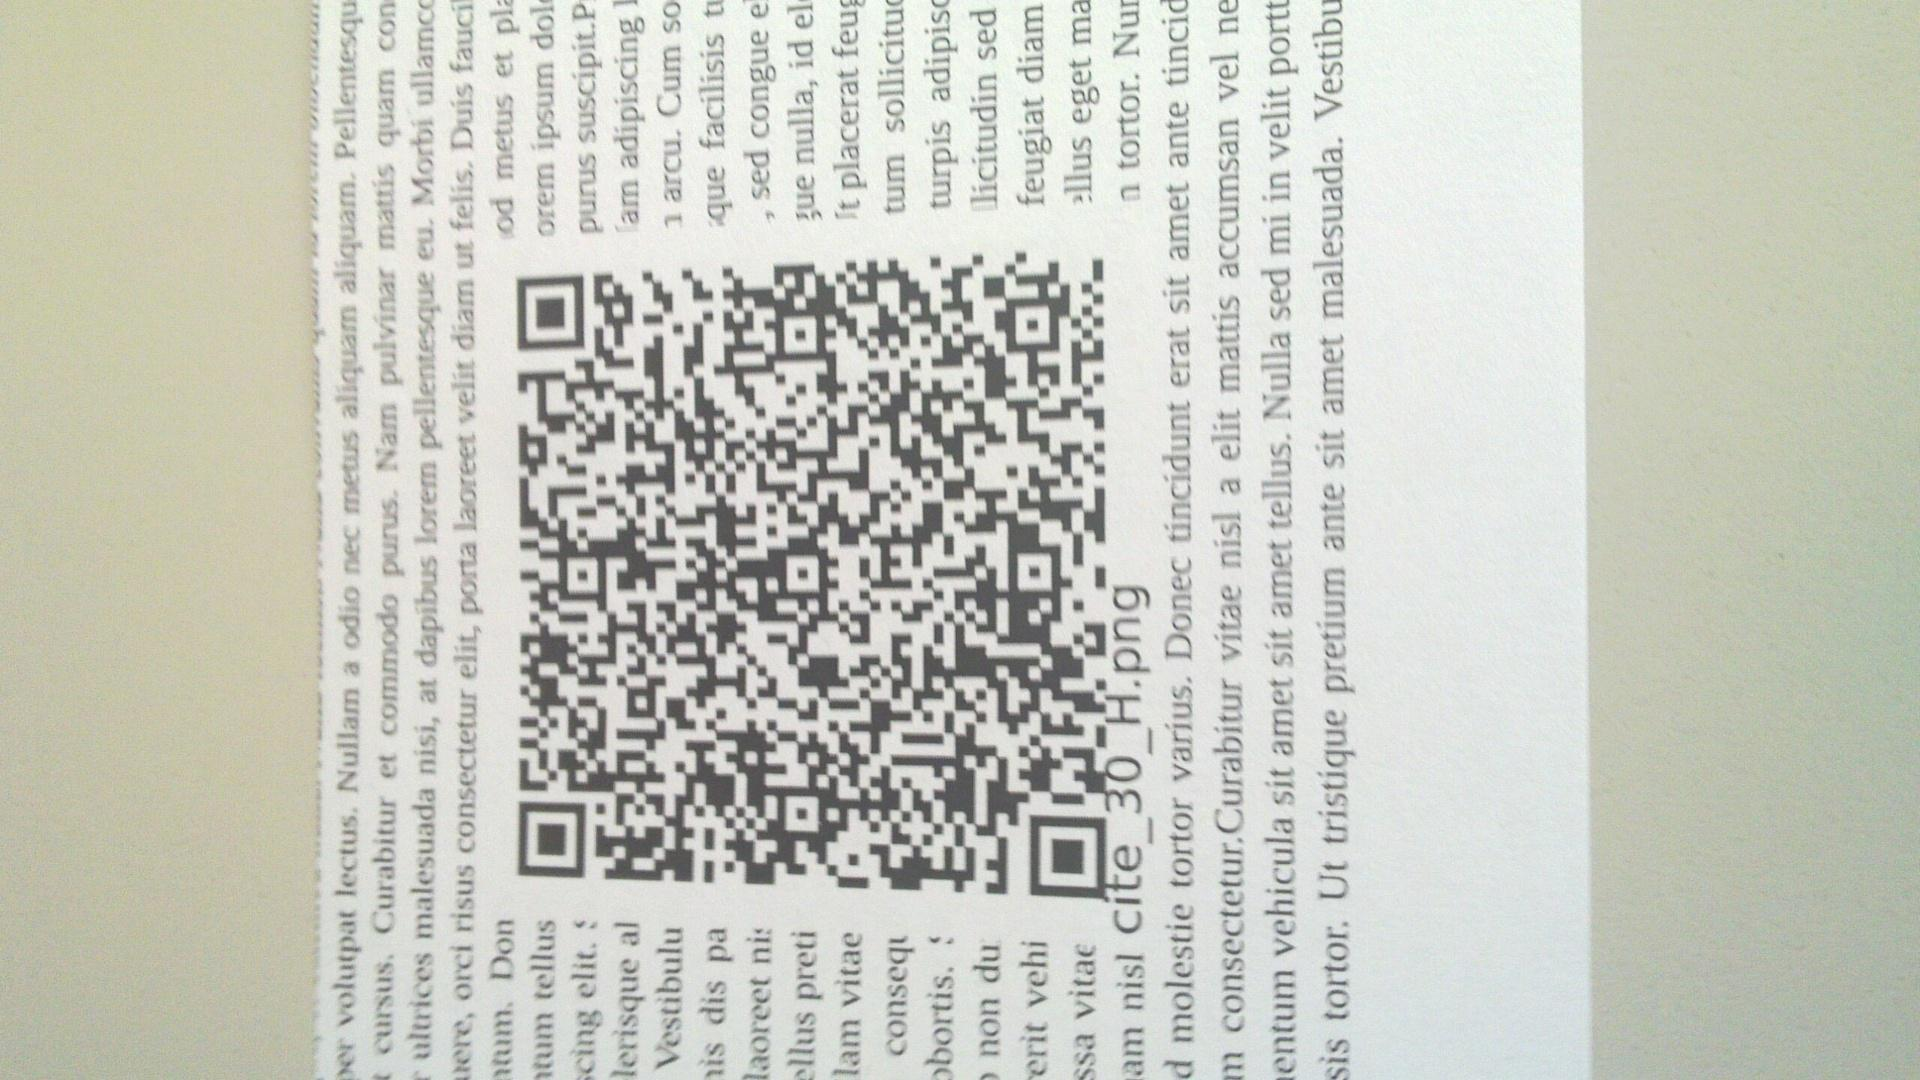Finder pattern: (1025, 806, 1113, 906), (516, 795, 592, 886), (510, 270, 591, 352)
